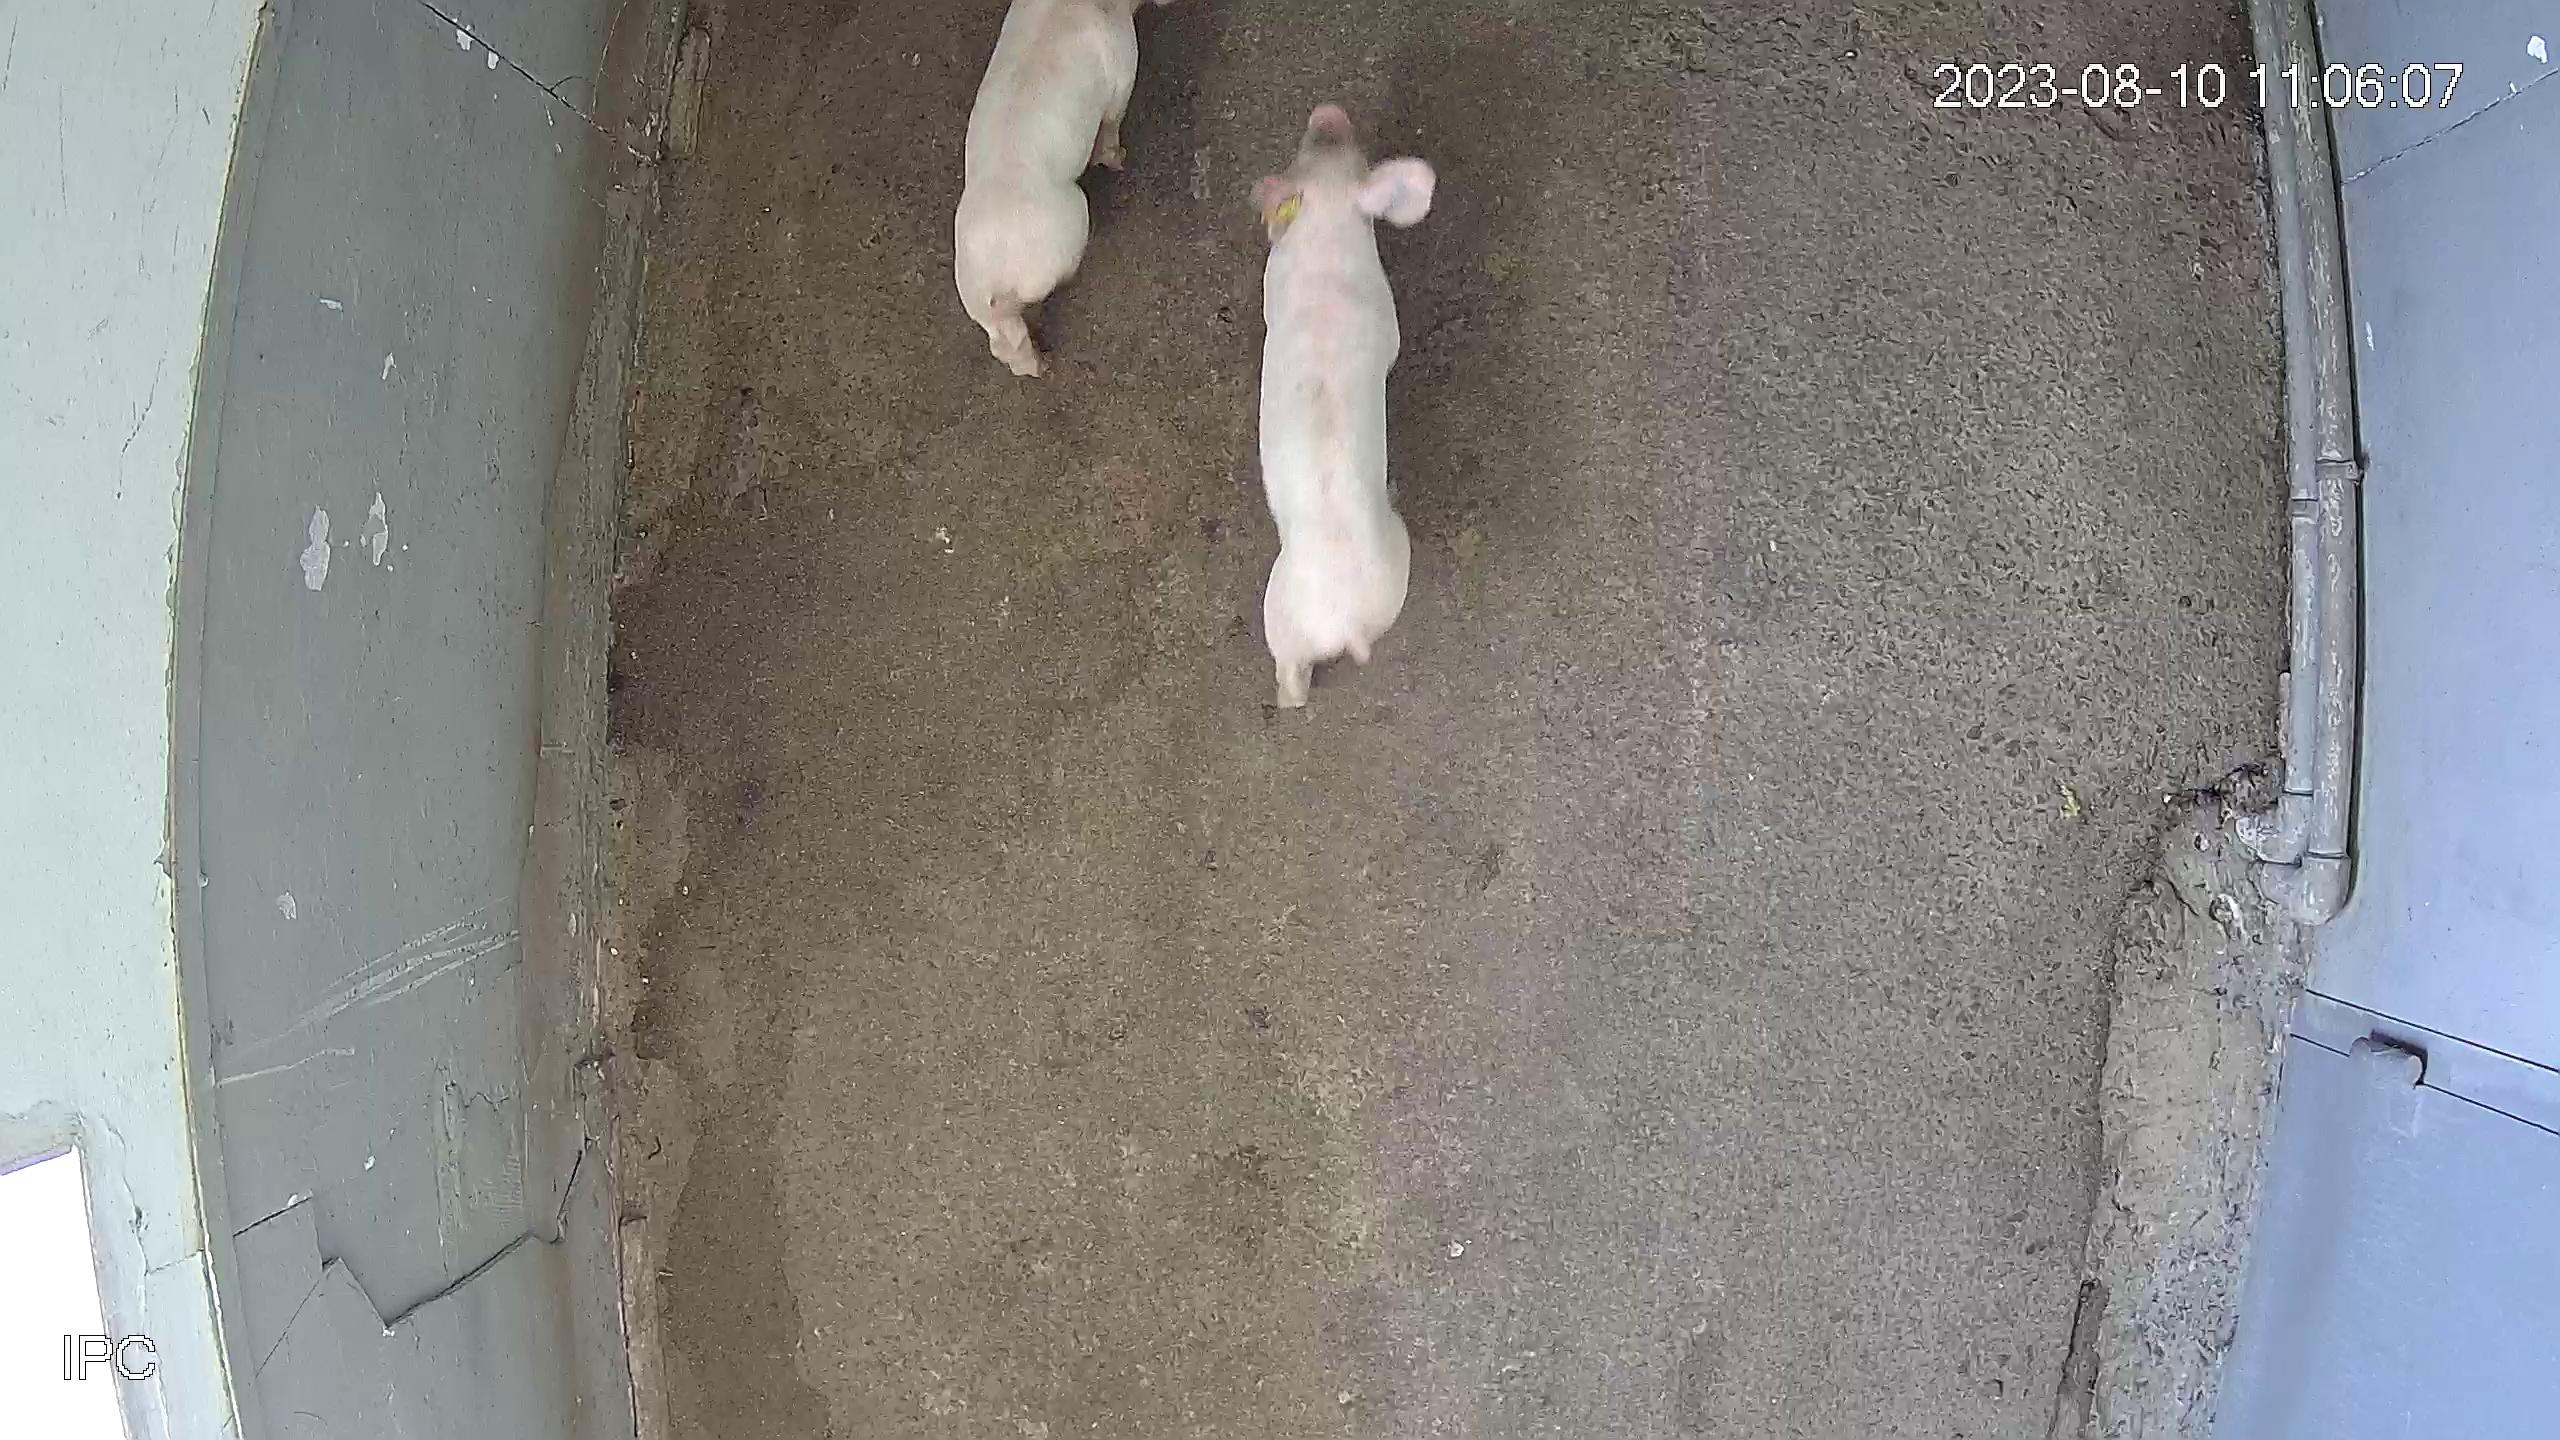Pig: (1254, 100, 1436, 707), (955, 0, 1141, 373)
